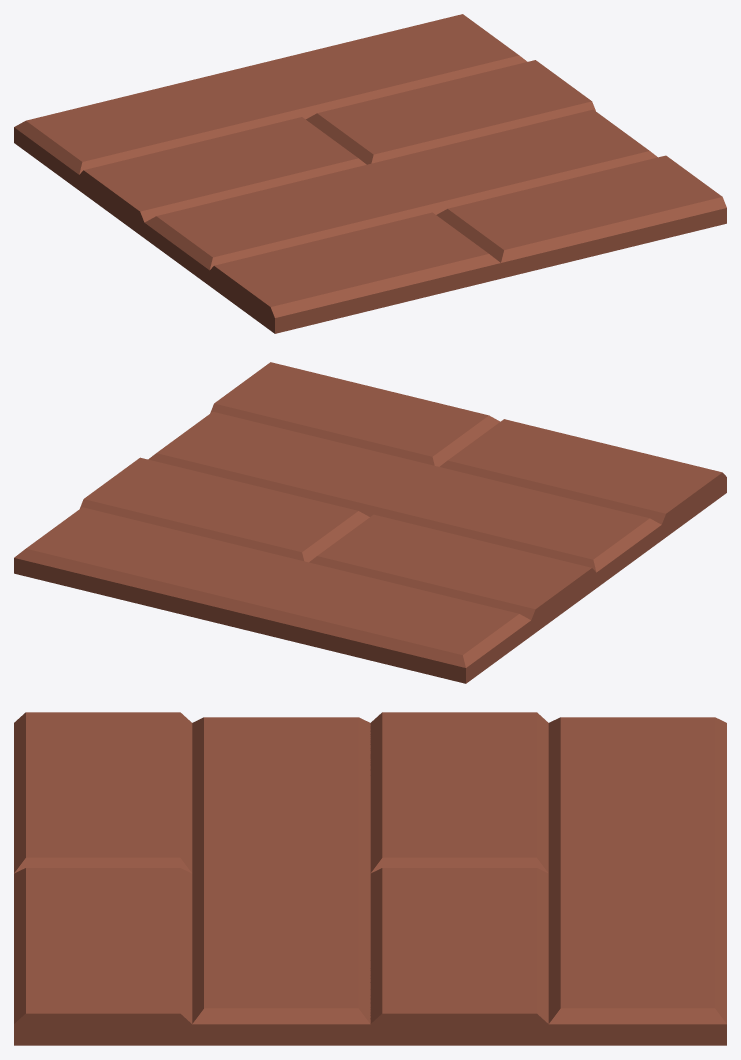
File: floorDecoration_wood 1.fbx
3 renders of one model, top to bottom at view 1: azimuth 30°, elevation 25°; view 2: azimuth 150°, elevation 25°; view 3: azimuth 270°, elevation 25°, orthographic. The views are drawn at different scales.
Parts seen in each view (by area): view 1: floorDecoration_wood; view 2: floorDecoration_wood; view 3: floorDecoration_wood.
Boxes of the visible parts, x1=… form: floorDecoration_wood: x1=14, y1=14, x2=726, y2=333; floorDecoration_wood: x1=14, y1=362, x2=726, y2=683; floorDecoration_wood: x1=14, y1=712, x2=726, y2=1045.
Bounding box in the file's own units: 200 × 10 × 200.
